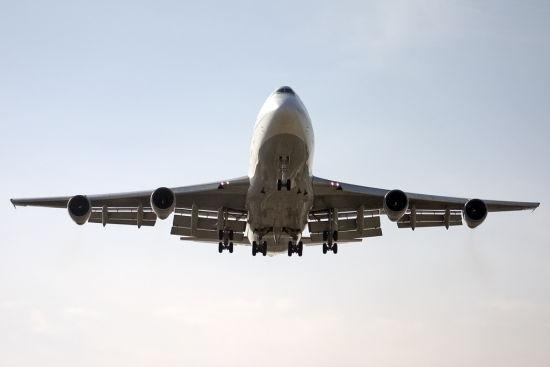airplane: (2, 86, 541, 258)
